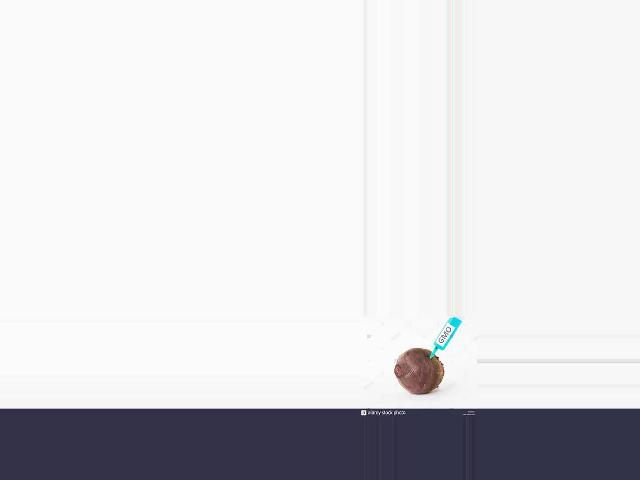beet: (394, 348, 444, 395)
